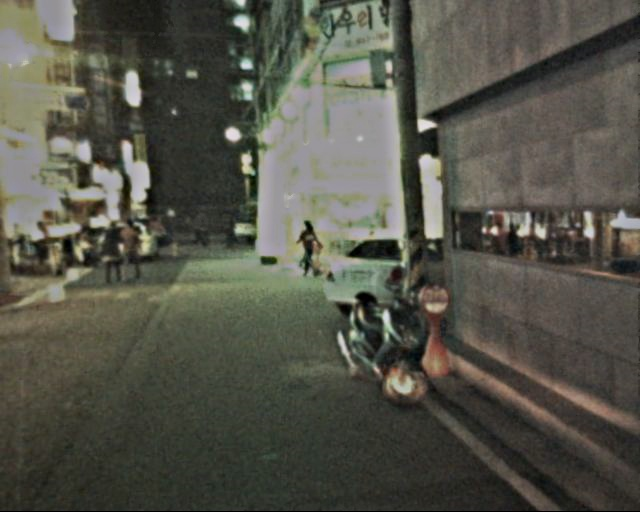person: (117, 220, 147, 284), (297, 217, 325, 278), (97, 222, 124, 283), (161, 206, 184, 257), (141, 209, 163, 253), (218, 209, 237, 250), (192, 209, 208, 249)
